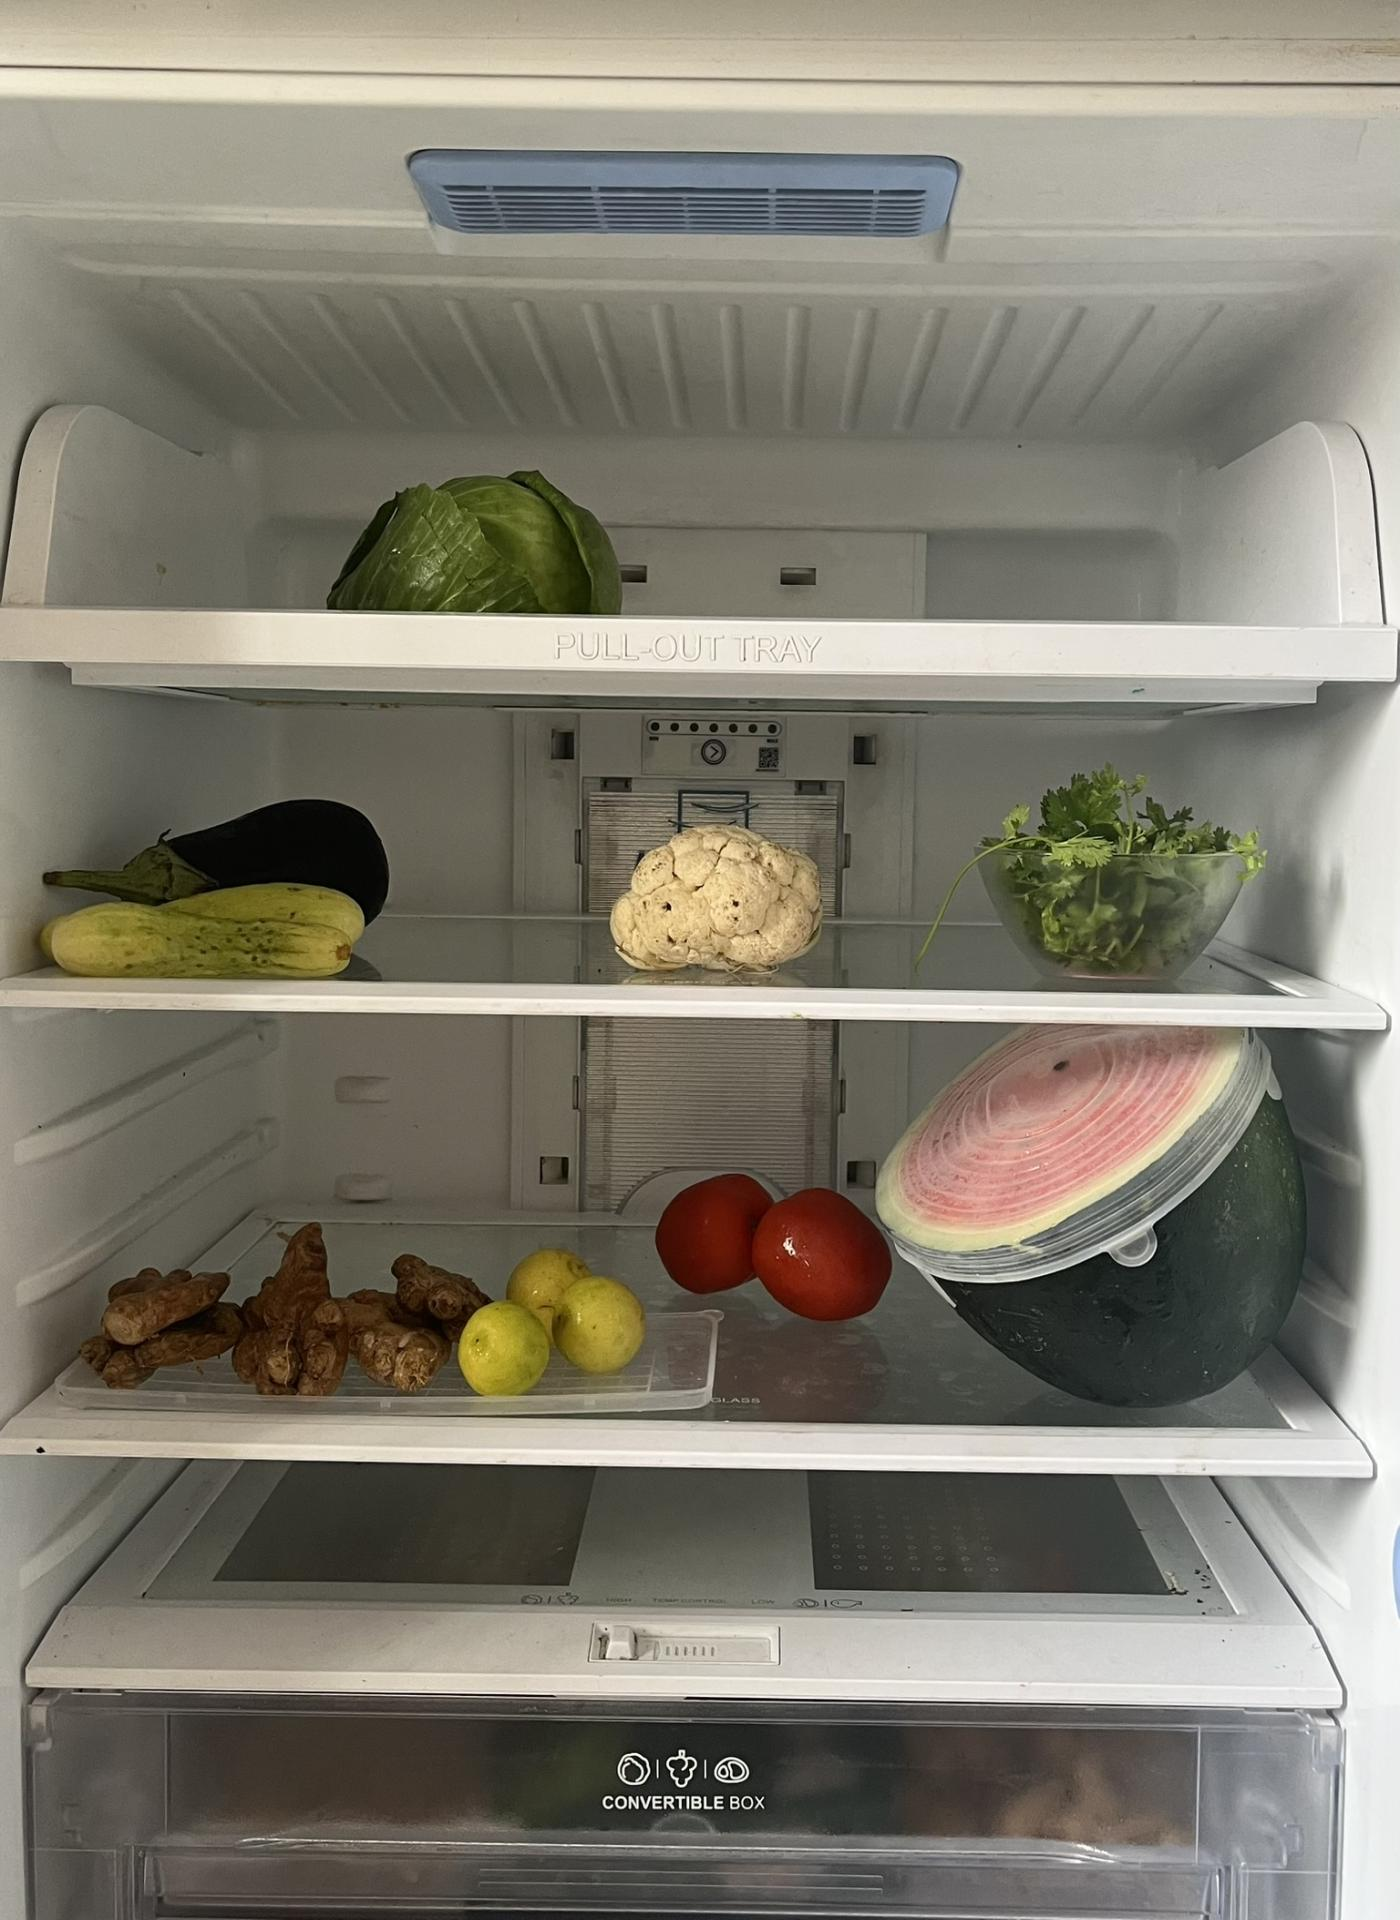brinjal: (51, 806, 397, 993)
cabbage: (327, 473, 626, 614)
cauliflower: (608, 821, 832, 959)
coriander: (996, 763, 1258, 966)
cucumber: (49, 881, 385, 972)
ginger: (112, 1228, 471, 1395)
lemon: (464, 1243, 640, 1388)
tomato: (663, 1170, 896, 1318)
watermelon: (878, 1038, 1309, 1416)
